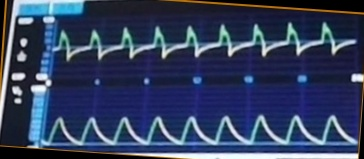Accumulation Flow: (57, 16, 355, 73)
Volume: (48, 98, 357, 149)
